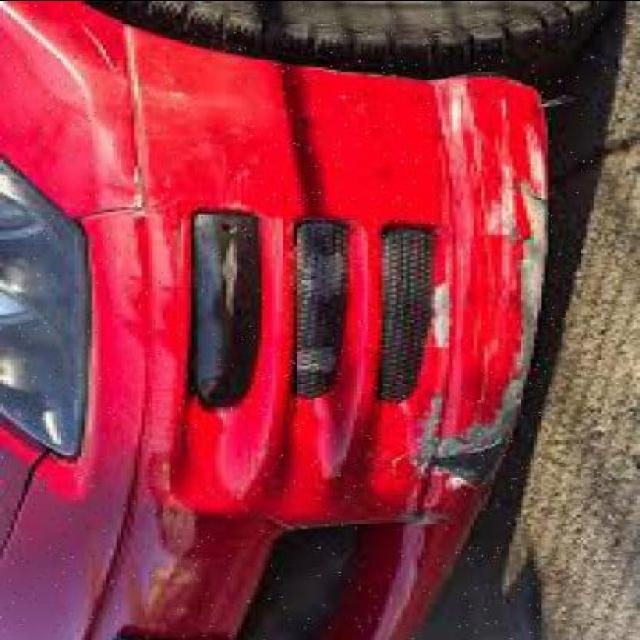front-bumper-dent: (99, 11, 552, 640)
